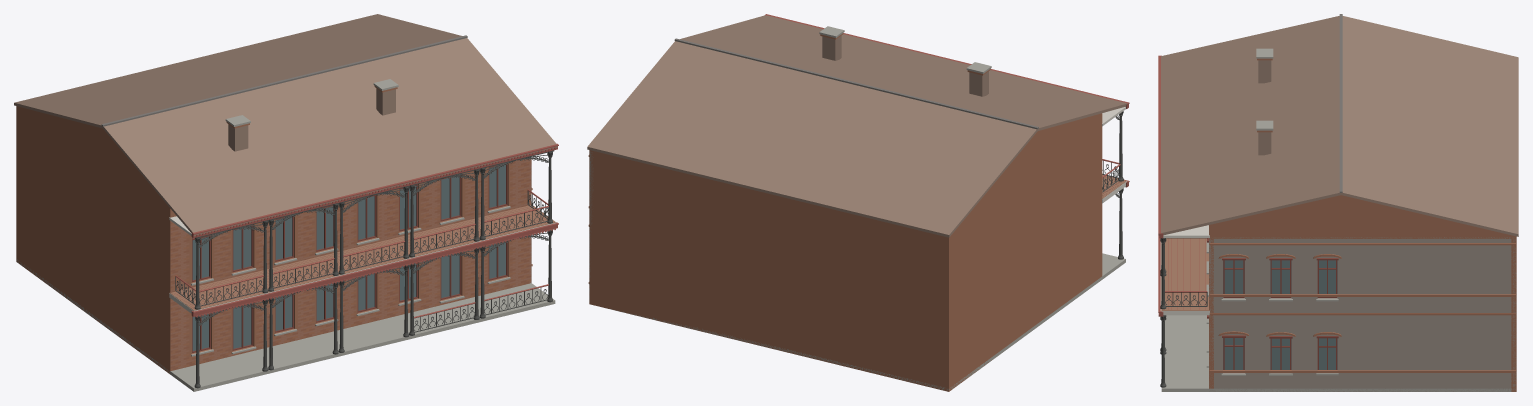
Rendered from huangpu-qiuxin-shipyard-office-south-veranda-raw.glb.
3 views of the same model, side by side, from view 1: azimuth 30°, elevation 25°; view 2: azimuth 150°, elevation 25°; view 3: azimuth 270°, elevation 25° (orthographic).
Visible parts, largest first — view 1: 求新船厂厂部办公楼南立面铸铁外廊; view 2: 求新船厂厂部办公楼南立面铸铁外廊; view 3: 求新船厂厂部办公楼南立面铸铁外廊.
Part boxes in pixels (x1=…): 求新船厂厂部办公楼南立面铸铁外廊: x1=14, y1=14, x2=558, y2=391; 求新船厂厂部办公楼南立面铸铁外廊: x1=587, y1=14, x2=1129, y2=391; 求新船厂厂部办公楼南立面铸铁外廊: x1=1158, y1=14, x2=1518, y2=391.
Bounding box in the file's own units: 21.22 × 11.69 × 18.17.
